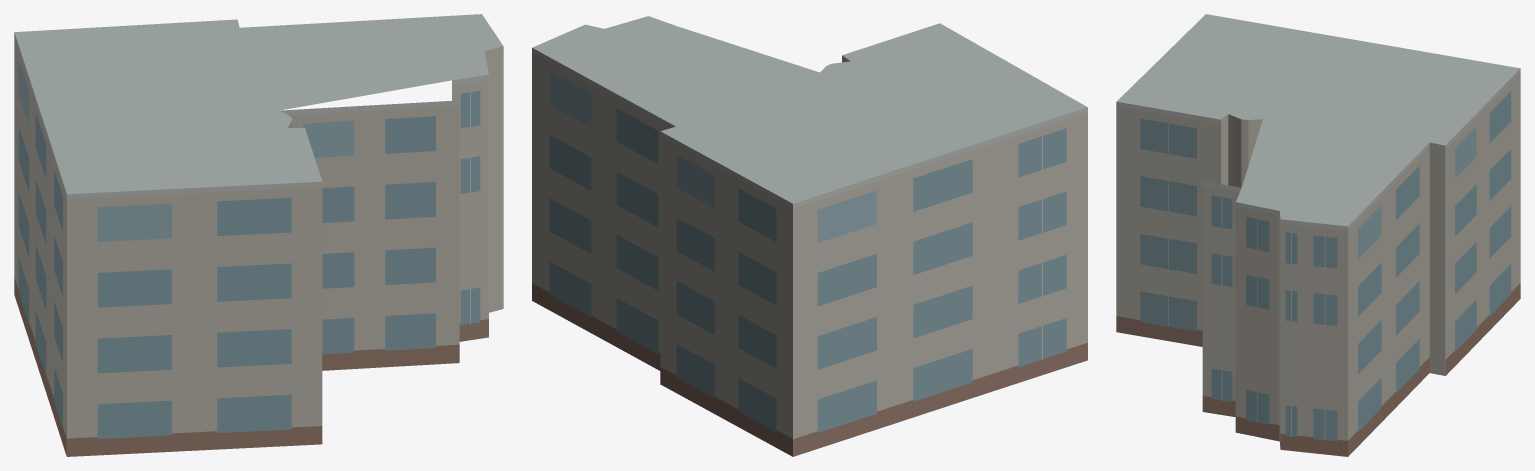
File: survey-upis-32636469.glb
The picture shows the model from 3 angles, left to right: view 1: azimuth 30°, elevation 25°; view 2: azimuth 150°, elevation 25°; view 3: azimuth 270°, elevation 25°; orthographic projection. The views are drawn at different scales.
Parts seen in each view (by area): view 1: survey-upis-32636469.tmp; view 2: survey-upis-32636469.tmp; view 3: survey-upis-32636469.tmp.
Boxes of the visible parts, x1,y1,x2,y2 form: survey-upis-32636469.tmp: [14, 14, 503, 456]; survey-upis-32636469.tmp: [532, 16, 1087, 456]; survey-upis-32636469.tmp: [1116, 14, 1520, 456].
Bounding box in the file's own units: 24.41 × 12.35 × 19.63.
